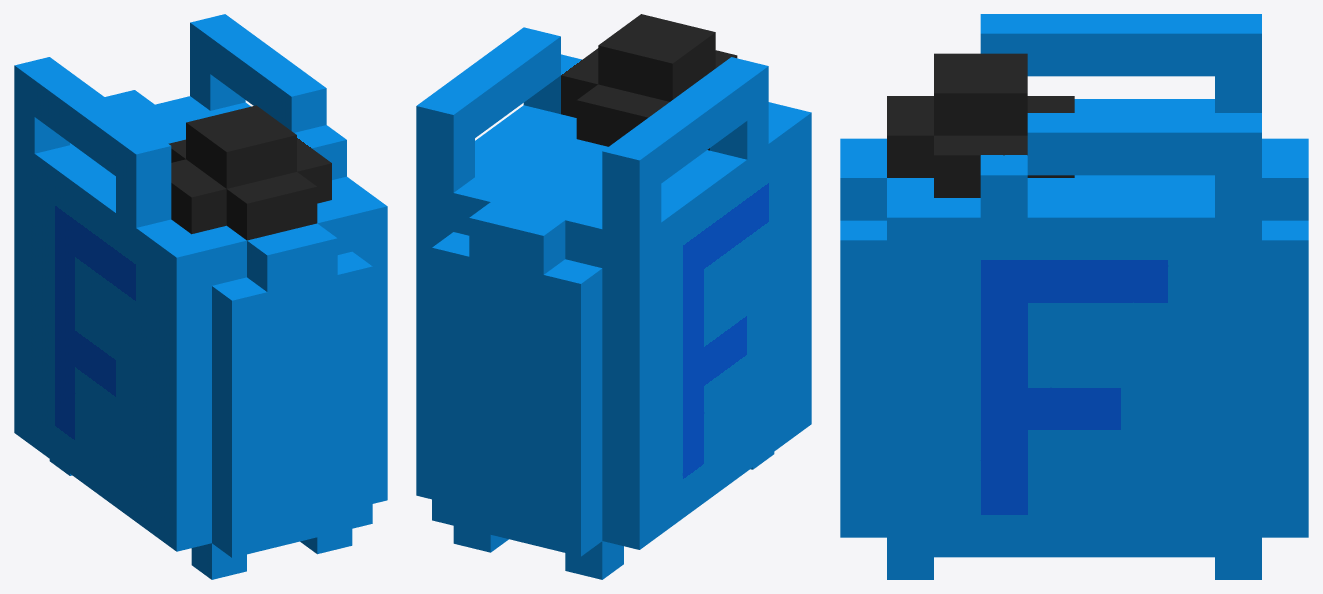
Rendered from fuel-can.gltf.
3 views of the same model, side by side, from view 1: azimuth 30°, elevation 25°; view 2: azimuth 150°, elevation 25°; view 3: azimuth 270°, elevation 25° (orthographic). The views are drawn at different scales.
Parts seen in each view (by area): view 1: Content-Mesh; view 2: Content-Mesh; view 3: Content-Mesh.
Boxes of the visible parts, <box> form: Content-Mesh: <box>14,14,387,579</box>; Content-Mesh: <box>416,14,811,579</box>; Content-Mesh: <box>840,14,1308,579</box>.
Size of the model in its own units: 6 by 11 by 10.
1 material, 1 textured.
